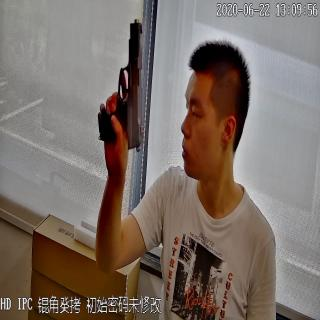gun: (95, 18, 156, 161)
